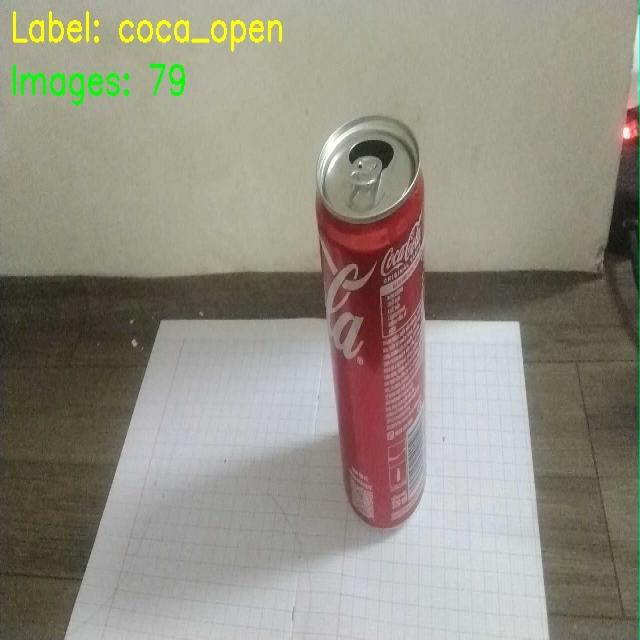Coca_open: (313, 100, 474, 564)
